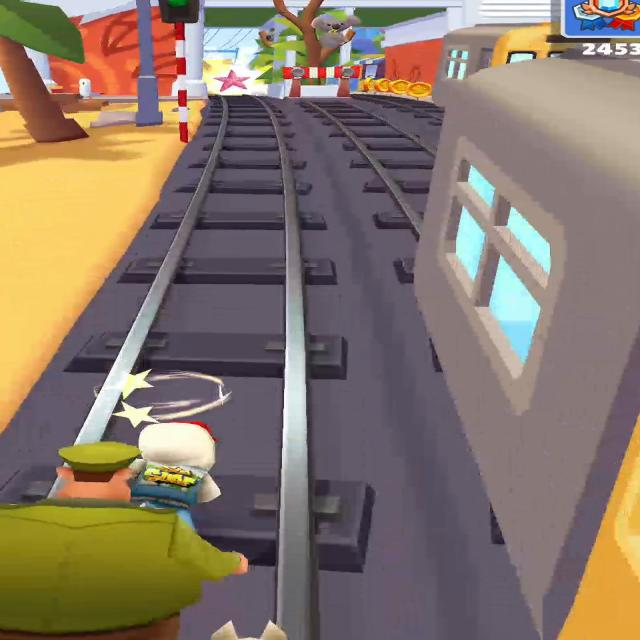block pillar: (250, 0, 359, 97)
police: (0, 442, 247, 640)
train: (413, 52, 639, 640), (431, 23, 569, 107), (579, 488, 639, 640)
